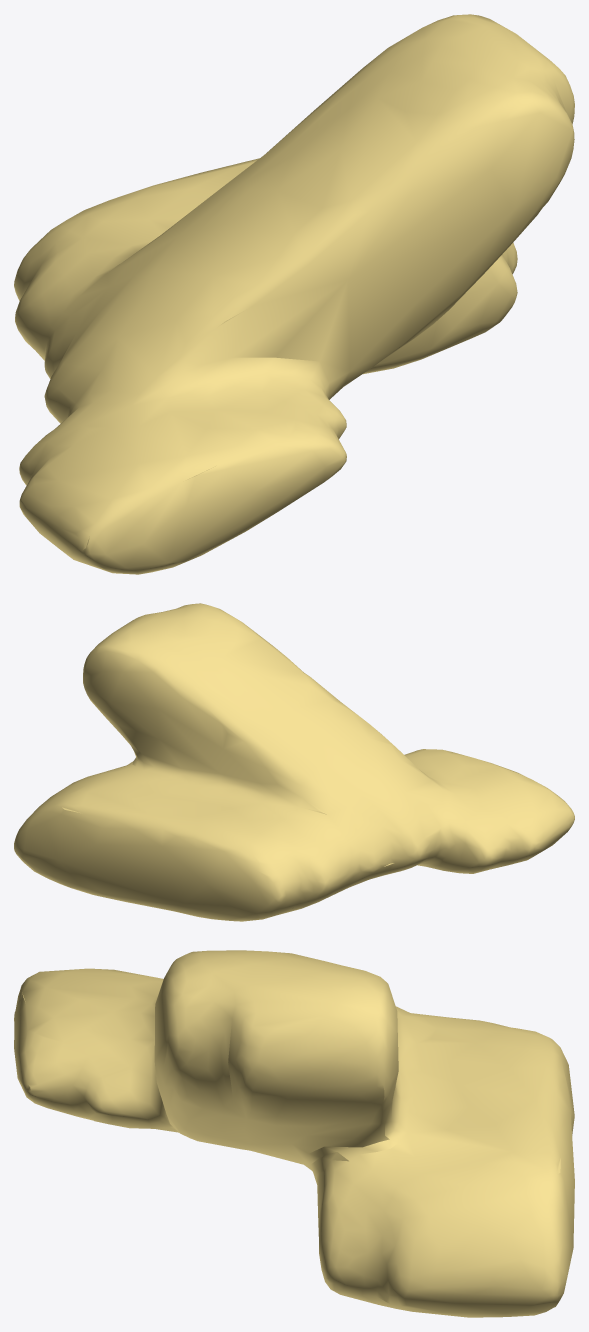
The model's file is fma73085_fj7561.glb.
The picture shows the model from 3 angles, top to bottom: view 1: azimuth 30°, elevation 25°; view 2: azimuth 150°, elevation 25°; view 3: azimuth 270°, elevation 25°; orthographic projection. The views are drawn at different scales.
Parts seen in each view (by area): view 1: FMA73085_FJ7561; view 2: FMA73085_FJ7561; view 3: FMA73085_FJ7561.
Boxes of the visible parts, x1,y1,x2,y2 form: FMA73085_FJ7561: [14, 14, 574, 574]; FMA73085_FJ7561: [14, 603, 574, 921]; FMA73085_FJ7561: [14, 950, 574, 1317].
Bounding box in the file's own units: 0.00602 × 0.0031 × 0.00473.
